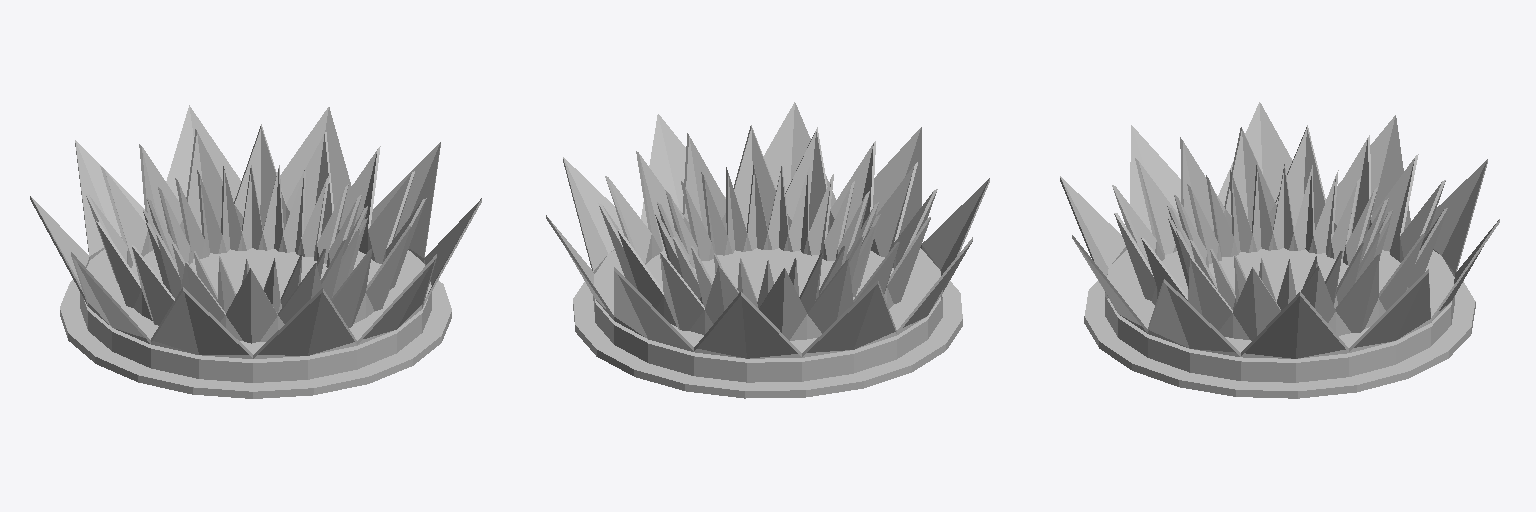
Rendered from portal_abrir_000013.obj.
The picture shows the model from 3 angles: view 1: azimuth 30°, elevation 25°; view 2: azimuth 150°, elevation 25°; view 3: azimuth 270°, elevation 25°; orthographic projection.
Visible parts, largest first — view 1: pCylinder1, Cylinder, Cylinder.001; view 2: pCylinder1, Cylinder, Cylinder.001; view 3: pCylinder1, Cylinder, Cylinder.001.
Part boxes in pixels (x1,y1,x2,y2): pCylinder1: (30, 105, 481, 398); Cylinder: (86, 124, 426, 343); Cylinder.001: (143, 165, 367, 313); pCylinder1: (546, 102, 989, 398); Cylinder: (598, 125, 937, 340); Cylinder.001: (655, 165, 880, 311); pCylinder1: (1060, 102, 1499, 398); Cylinder: (1112, 125, 1447, 340); Cylinder.001: (1167, 164, 1392, 310).
Bounding box in the file's own units: 2.74 × 0.8068 × 2.68.